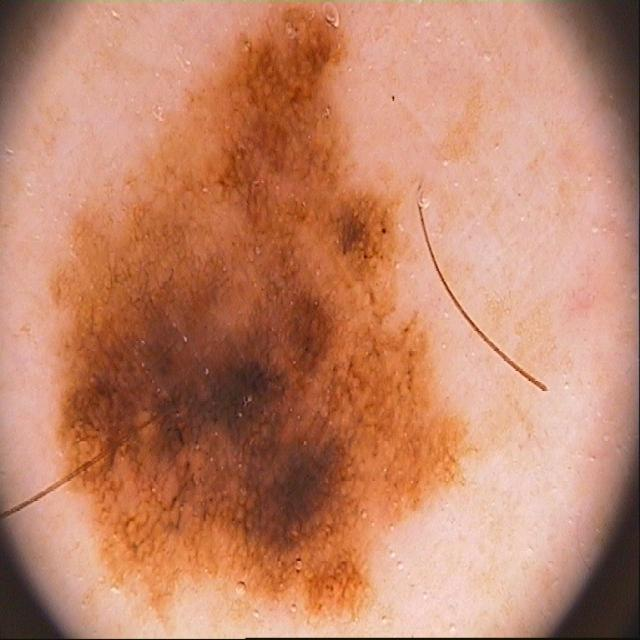Melanoma: (39, 6, 476, 626)
